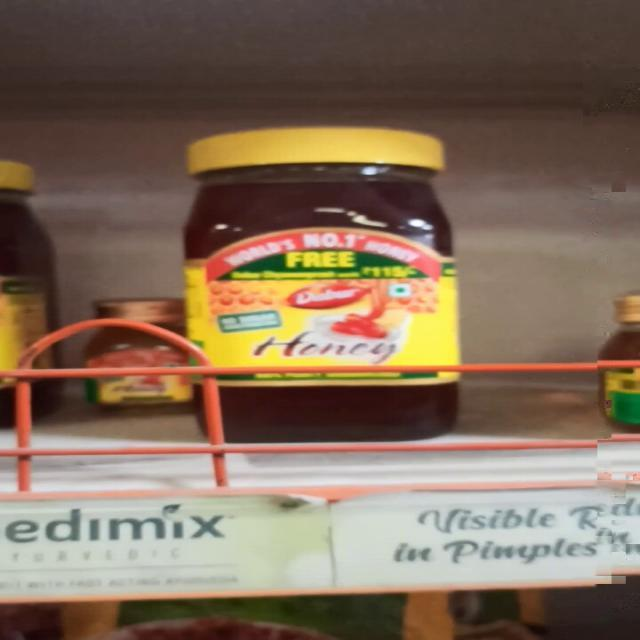Dabur Honey: (175, 124, 474, 444)
